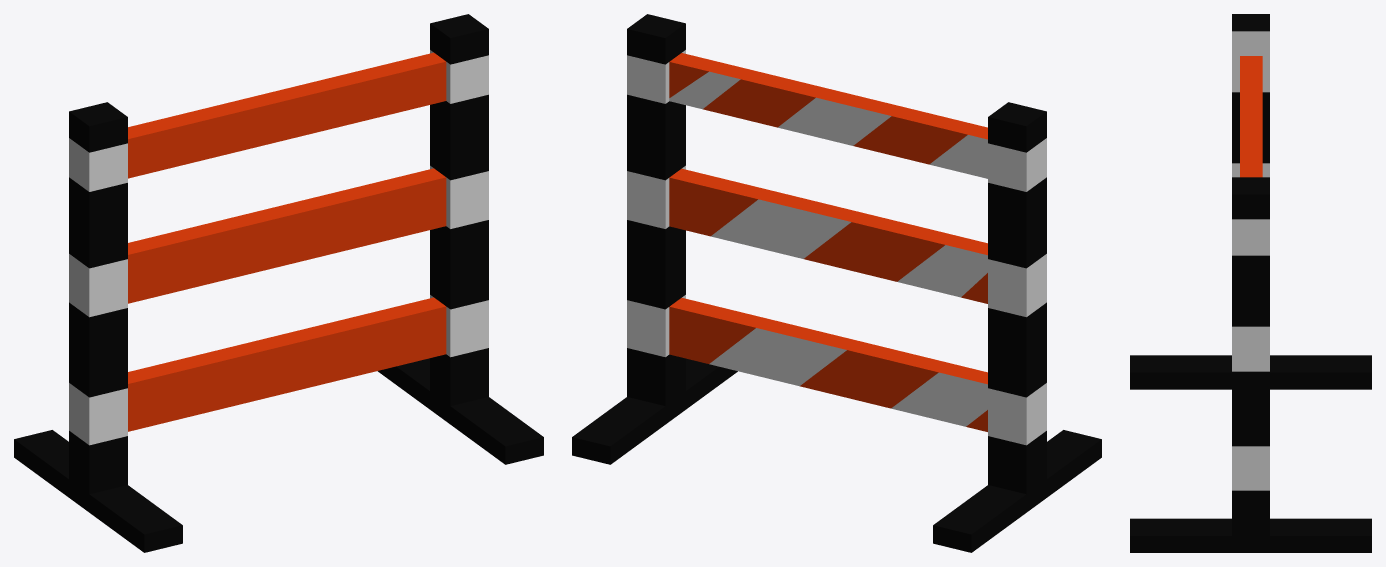
The model's file is obs-3.fbx.
The picture shows the model from 3 angles, left to right: view 1: azimuth 30°, elevation 25°; view 2: azimuth 150°, elevation 25°; view 3: azimuth 270°, elevation 25°; orthographic projection. The views are drawn at different scales.
Visible parts, largest first — view 1: Cube.001, Cube; view 2: Cube.001, Cube; view 3: Cube, Cube.001.
Boxes of the visible parts, left/top/right/bottom form: Cube.001: left=14, top=52, right=446, bottom=552; Cube: left=377, top=14, right=543, bottom=464; Cube.001: left=669, top=53, right=1101, bottom=552; Cube: left=572, top=14, right=737, bottom=464; Cube: left=1130, top=177, right=1371, bottom=552; Cube.001: left=1130, top=14, right=1371, bottom=389.
Bounding box in the file's own units: 216 × 200 × 122.
